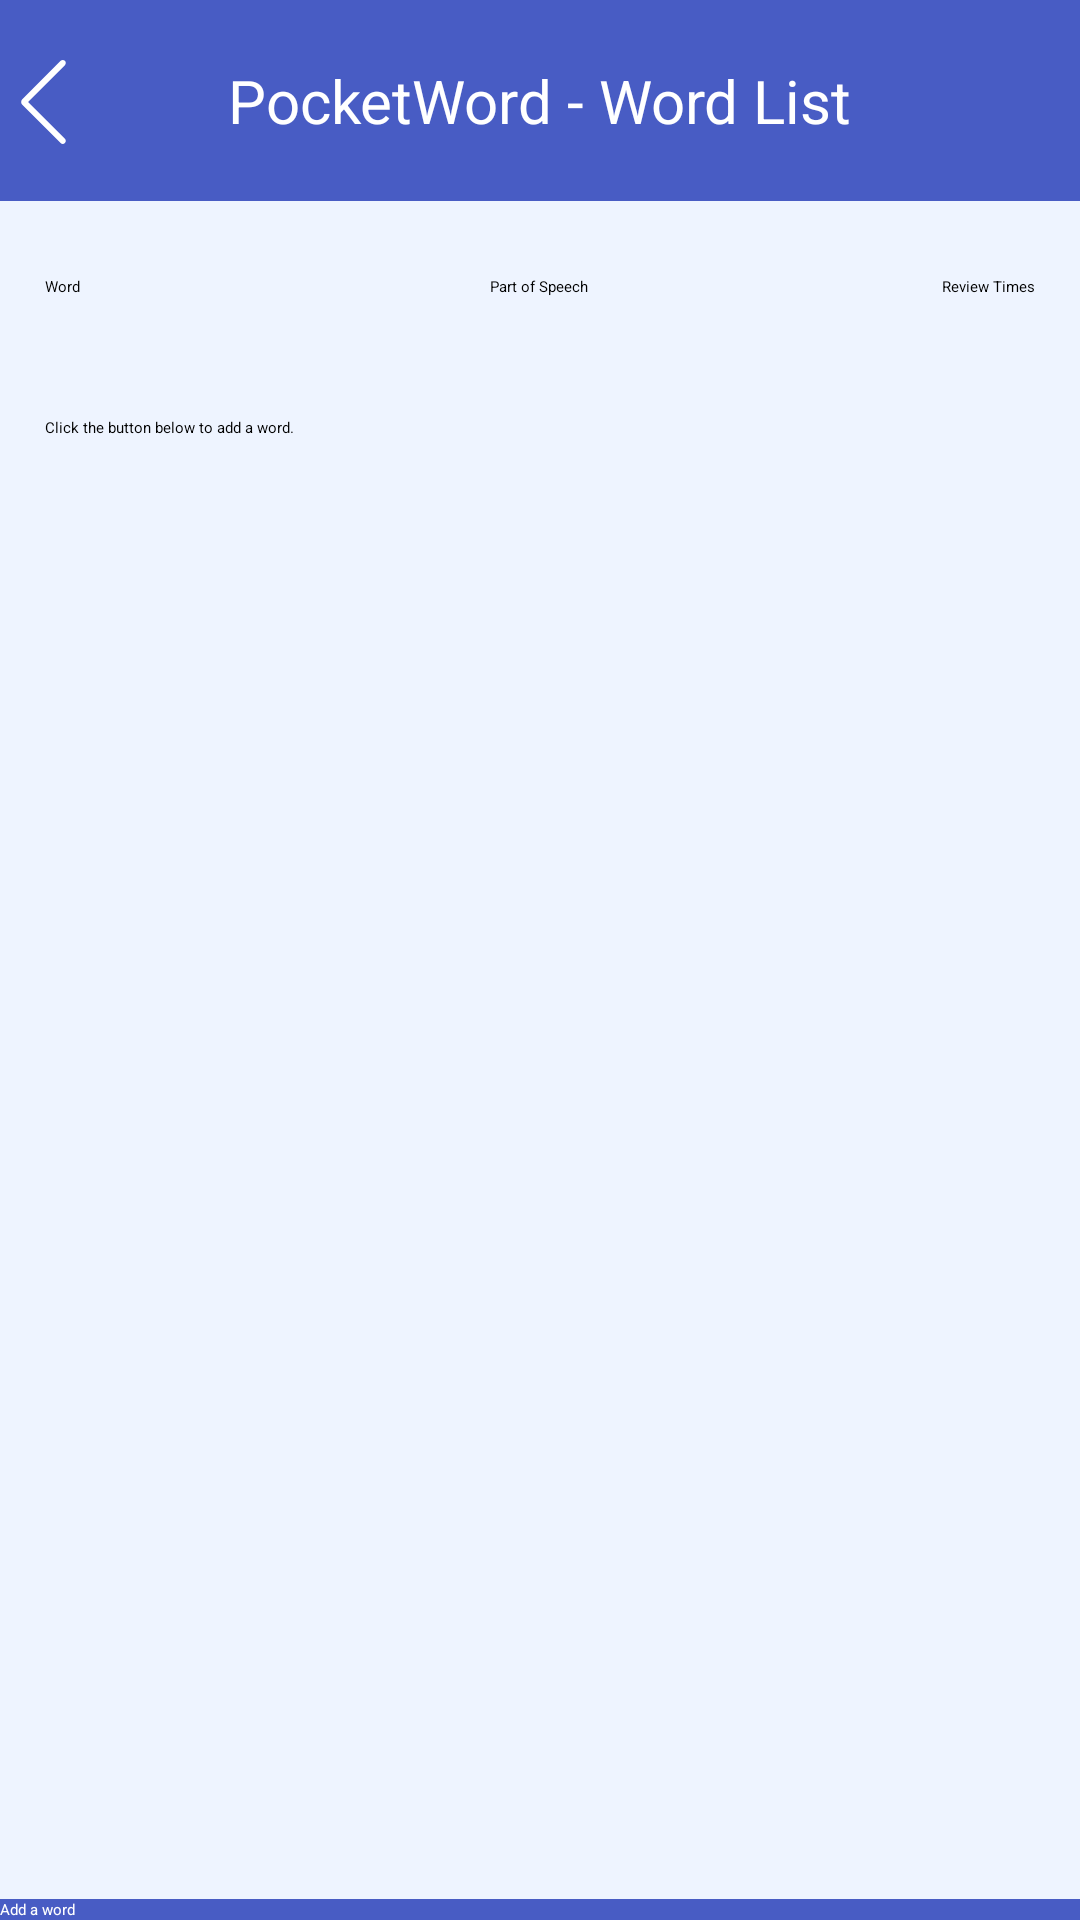

Locate icon controls on the screen. Image size 1080×1920, boxes as (x1, y1, x2, y2).
back: (21, 60, 66, 144)
